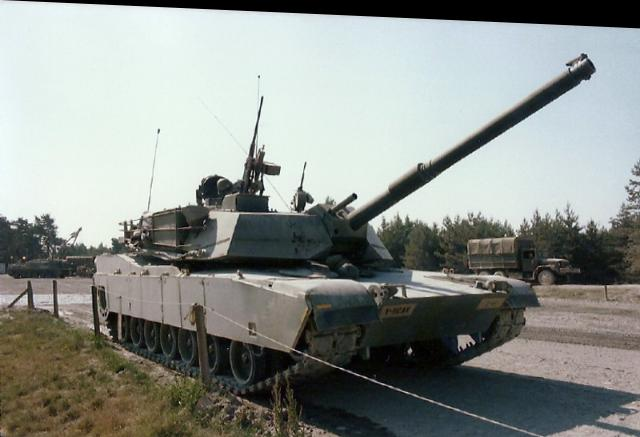tank: (88, 160, 532, 404)
